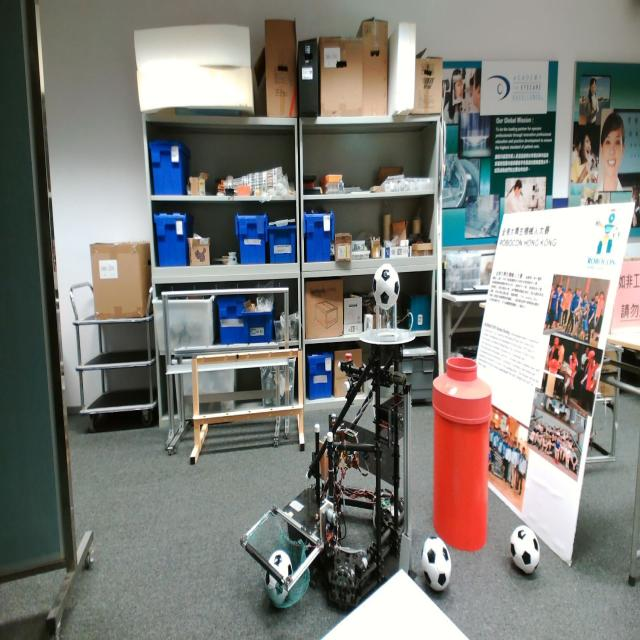ball: (367, 257, 404, 316), (421, 530, 454, 592), (267, 545, 296, 605), (512, 521, 540, 575)
